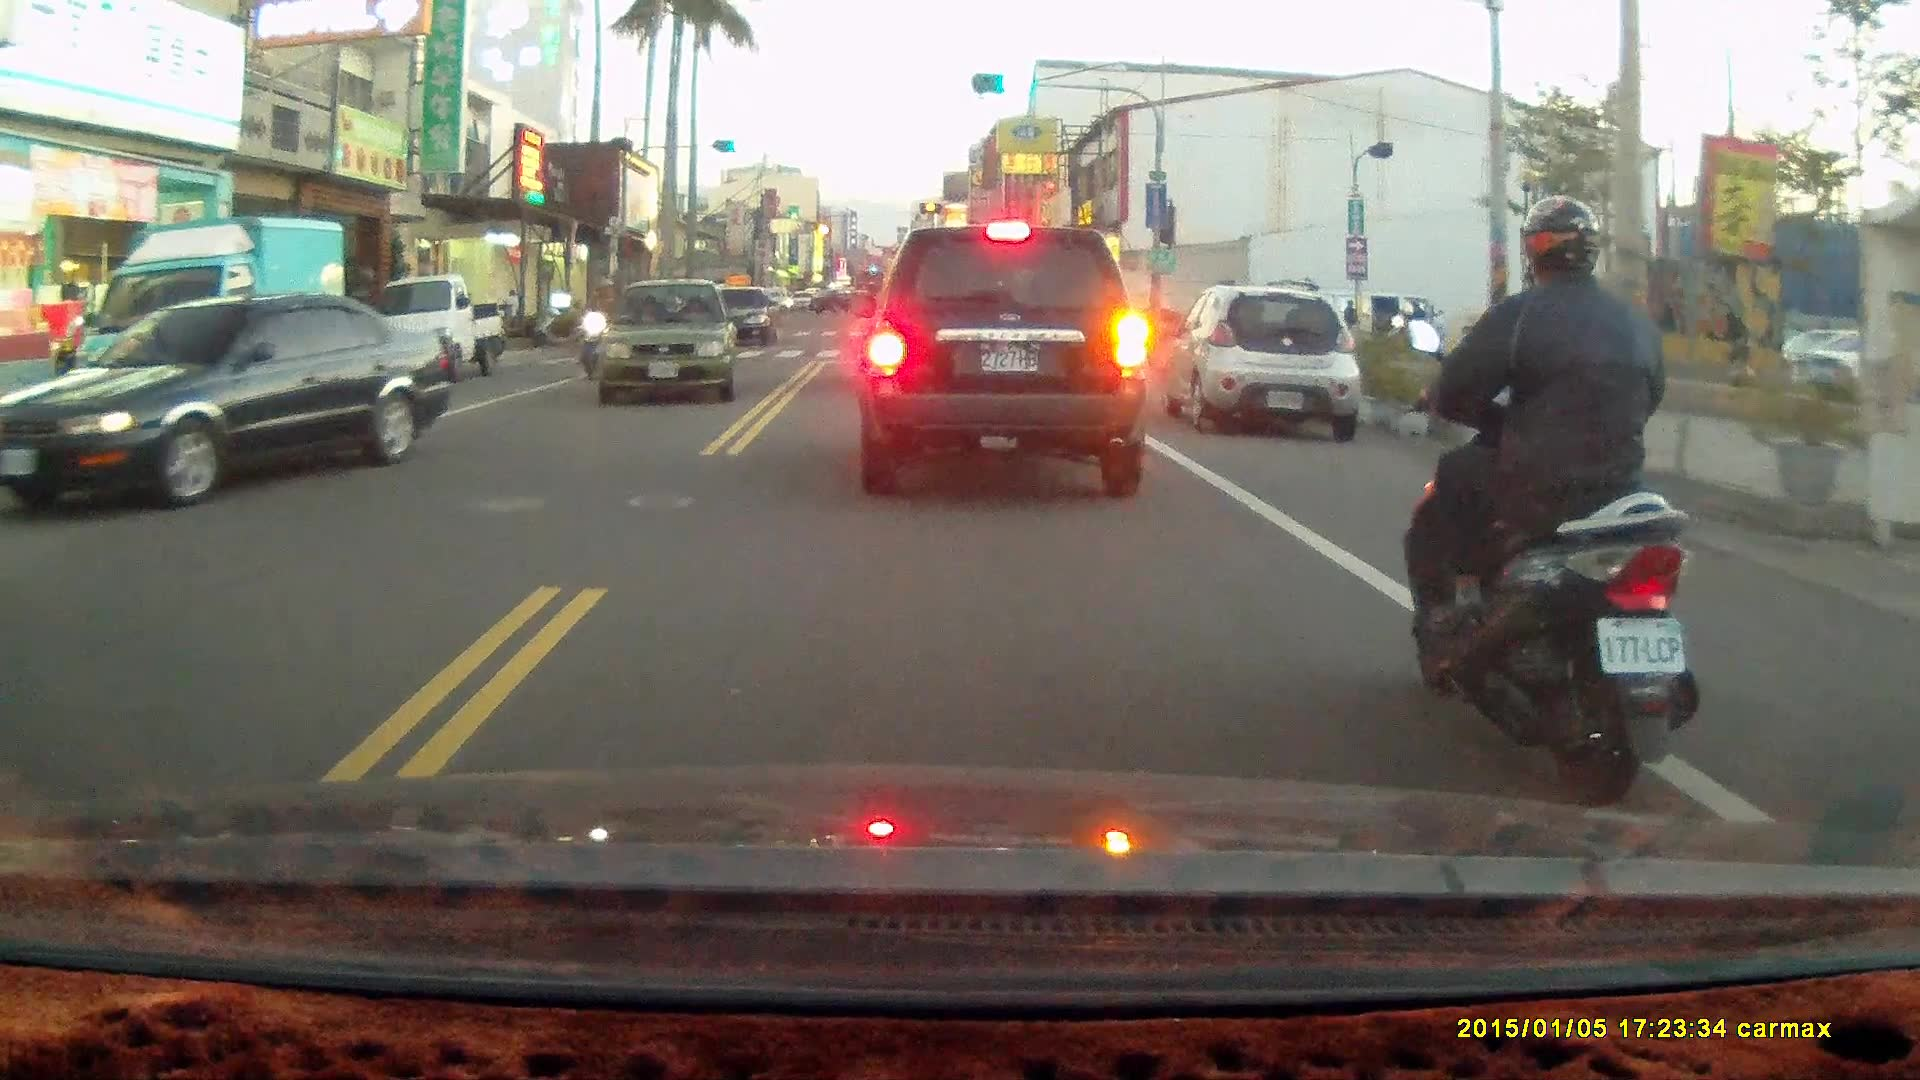rider: (1402, 193, 1705, 809), (574, 278, 623, 373)
vehicle: (1, 293, 461, 508), (856, 223, 1150, 501), (90, 215, 351, 442), (1173, 286, 1364, 443), (592, 275, 740, 408), (368, 270, 508, 382)
